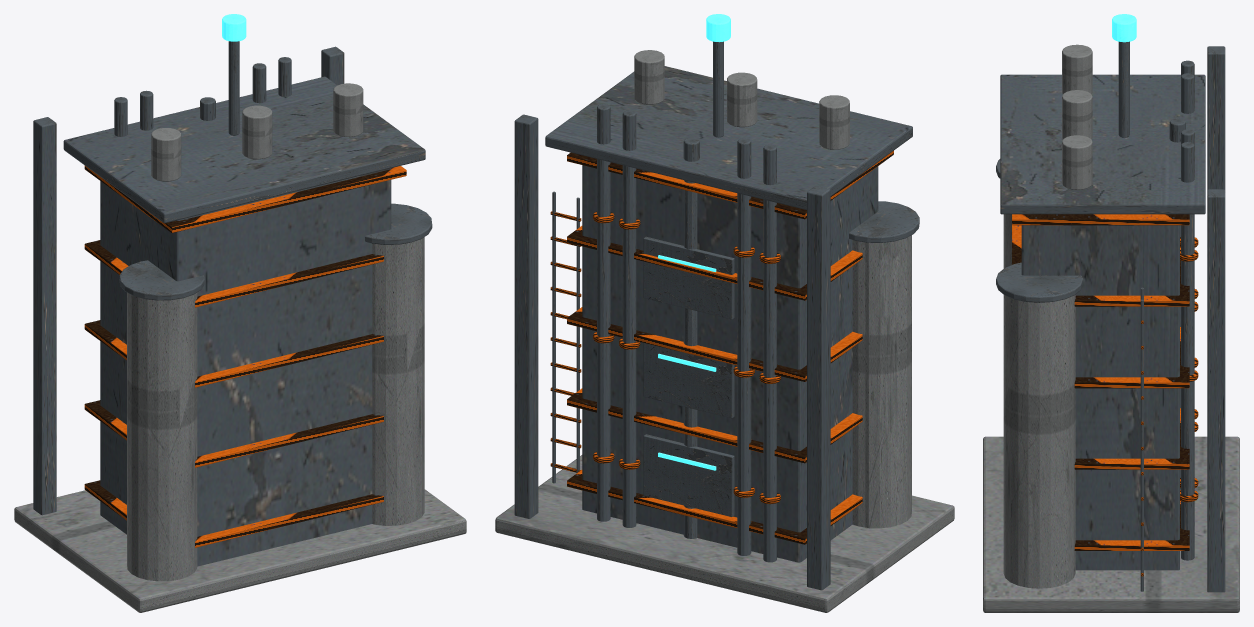
File: refinery_stack.glb
3 renders of one model, left to right at view 1: azimuth 30°, elevation 25°; view 2: azimuth 150°, elevation 25°; view 3: azimuth 270°, elevation 25°, orthographic.
Parts seen in each view (by area): view 1: MainCore, RoofDeck, ProcessTank_-3.95, Foundation, ProcessTank_3.95, CornerFrame_-3.95, ServiceBand_9.5, ServiceBand_1.1, ServiceBand_3.2, ServiceBand_5.3, ServiceBand_7.4, TankCap_-3.95 (+7 smaller); view 2: MainCore, RoofDeck, Foundation, ProcessTank_-3.95, CornerFrame_3.95, CornerFrame_-3.95, PipeRise_-1.55, PipeRise_1.55, ControlFace_2.0, PipeRise_-2.25, PipeRise_2.25, ControlFace_7.1 (+16 smaller); view 3: MainCore, RoofDeck, ProcessTank_3.95, Foundation, CornerFrame_3.95, PipeRise_2.25, CornerFrame_-3.95, TankCap_3.95, ServiceBand_9.5, ServiceBand_7.4, RoofVent_2.5, ServiceBand_5.3 (+9 smaller).
Boxes of the visible parts, x1,y1,x2,y2 form: MainCore: [100, 168, 391, 566]; RoofDeck: [63, 76, 425, 223]; ProcessTank_-3.95: [127, 292, 197, 581]; Foundation: [14, 489, 466, 612]; ProcessTank_3.95: [372, 237, 424, 525]; CornerFrame_-3.95: [33, 117, 56, 515]; ServiceBand_9.5: [84, 165, 406, 232]; ServiceBand_1.1: [84, 480, 383, 547]; ServiceBand_3.2: [84, 400, 383, 467]; ServiceBand_5.3: [84, 320, 383, 387]; ServiceBand_7.4: [84, 240, 383, 307]; TankCap_-3.95: [119, 260, 204, 300]; MainCore: [582, 165, 878, 562]; RoofDeck: [545, 66, 912, 209]; Foundation: [495, 455, 954, 612]; ProcessTank_-3.95: [852, 235, 911, 528]; CornerFrame_3.95: [514, 114, 538, 518]; CornerFrame_-3.95: [807, 186, 830, 590]; PipeRise_-1.55: [737, 138, 751, 555]; PipeRise_1.55: [622, 110, 636, 527]; ControlFace_2.0: [643, 434, 734, 516]; PipeRise_-2.25: [763, 144, 776, 562]; PipeRise_2.25: [597, 104, 610, 521]; ControlFace_7.1: [643, 236, 734, 319]; MainCore: [1021, 225, 1179, 570]; RoofDeck: [1000, 74, 1205, 214]; ProcessTank_3.95: [1003, 295, 1075, 588]; Foundation: [983, 436, 1239, 612]; CornerFrame_3.95: [1207, 189, 1225, 592]; PipeRise_2.25: [1181, 142, 1194, 560]; CornerFrame_-3.95: [1207, 46, 1225, 189]; TankCap_3.95: [996, 262, 1083, 302]; ServiceBand_9.5: [1012, 214, 1189, 225]; ServiceBand_7.4: [1012, 225, 1189, 306]; RoofVent_2.5: [1062, 135, 1092, 189]; ServiceBand_5.3: [1074, 327, 1189, 388].
Bounding box in the file's own units: 9 × 13.84 × 6.
5 materials, 5 textured.
